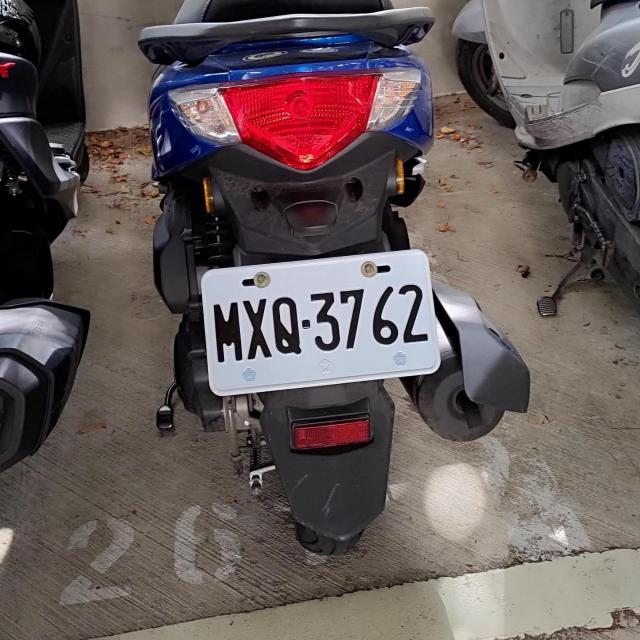W: (198, 251, 440, 388)
